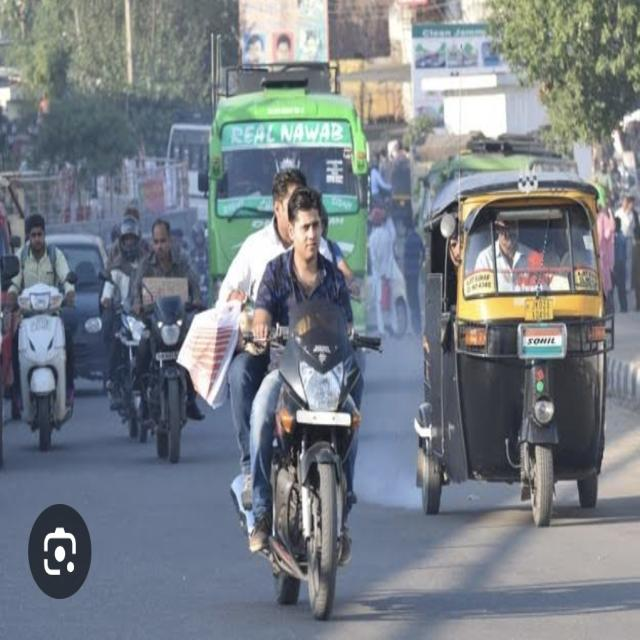WithHelmet: (97, 220, 150, 417)
WithoutHelmet: (244, 188, 365, 569), (218, 165, 311, 507), (138, 218, 202, 417), (9, 211, 75, 398)
